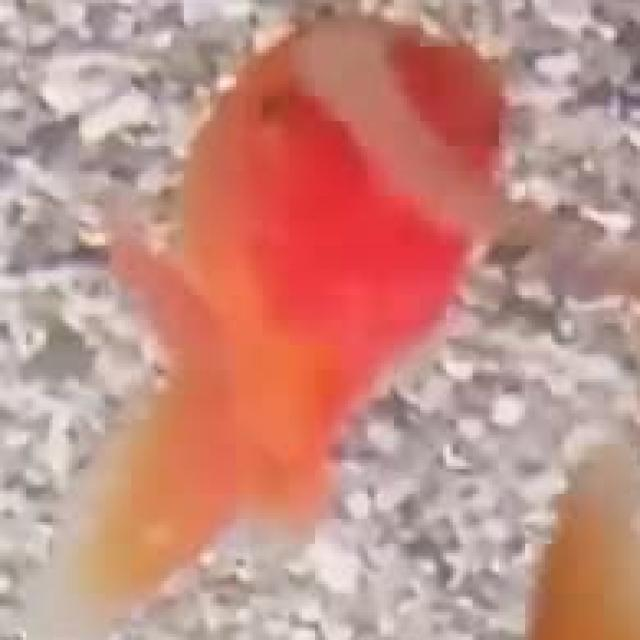fish: (3, 0, 640, 637)
